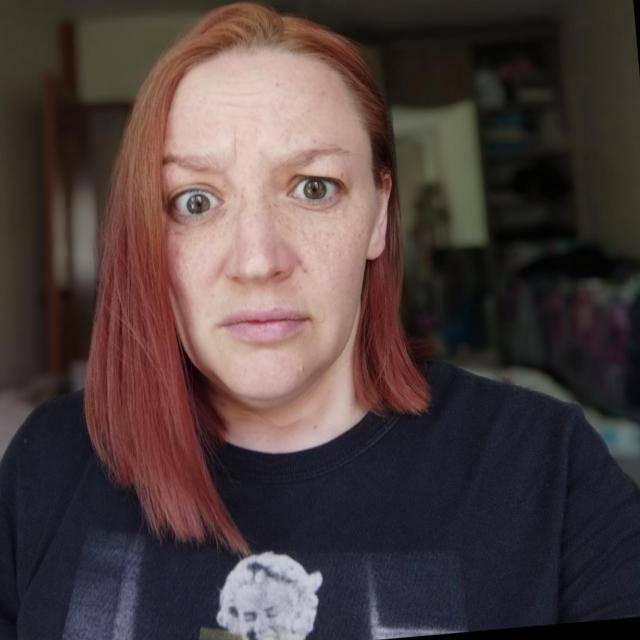surprised: (89, 76, 418, 469)
